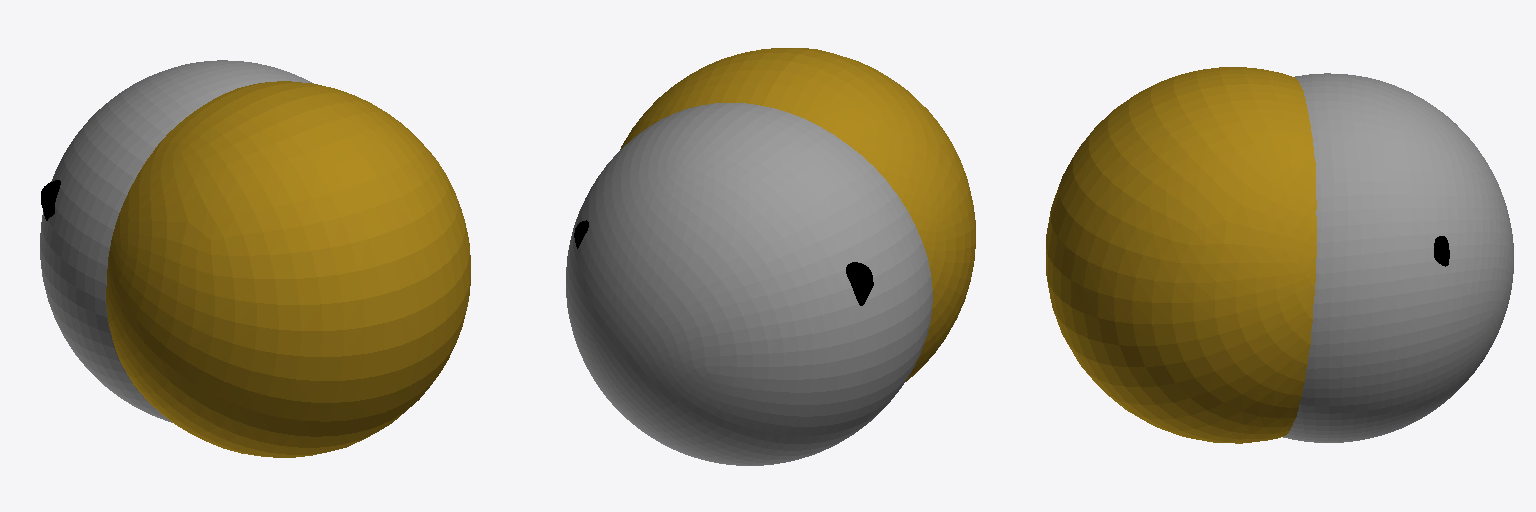
Rendered from sunglasses.obj.
The picture shows the model from 3 angles: view 1: azimuth 30°, elevation 25°; view 2: azimuth 150°, elevation 25°; view 3: azimuth 270°, elevation 25°; orthographic projection.
Parts seen in each view (by area): view 1: Group43228, Group7782; view 2: Group7782, Group43228, Group17483; view 3: Group43228, Group7782.
Boxes of the visible parts, x1,y1,x2,y2 form: Group43228: [106, 81, 470, 457]; Group7782: [40, 60, 313, 422]; Group7782: [566, 103, 932, 465]; Group43228: [620, 48, 975, 381]; Group17483: [574, 220, 873, 305]; Group43228: [1046, 67, 1316, 443]; Group7782: [1283, 73, 1513, 442].
Size of the model in its own units: 2.28 by 2.26 by 2.77.